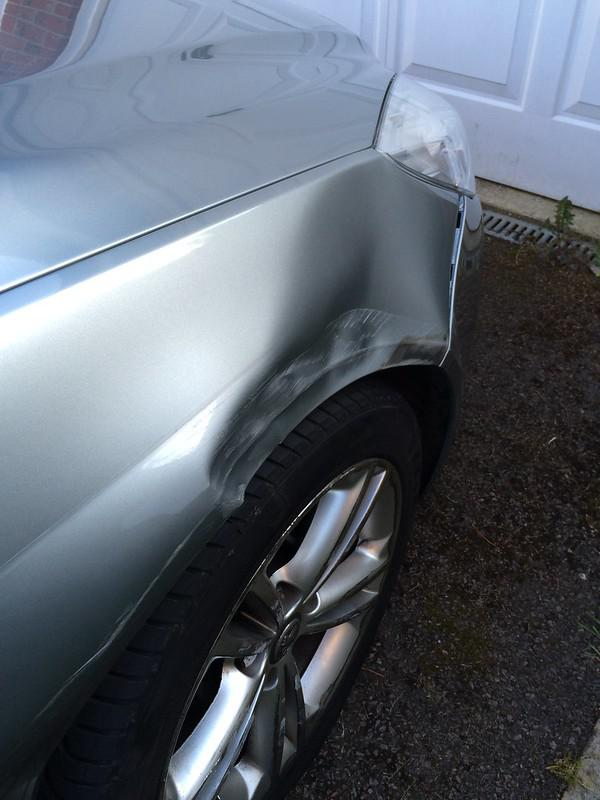fender-dent: (113, 194, 468, 536)
